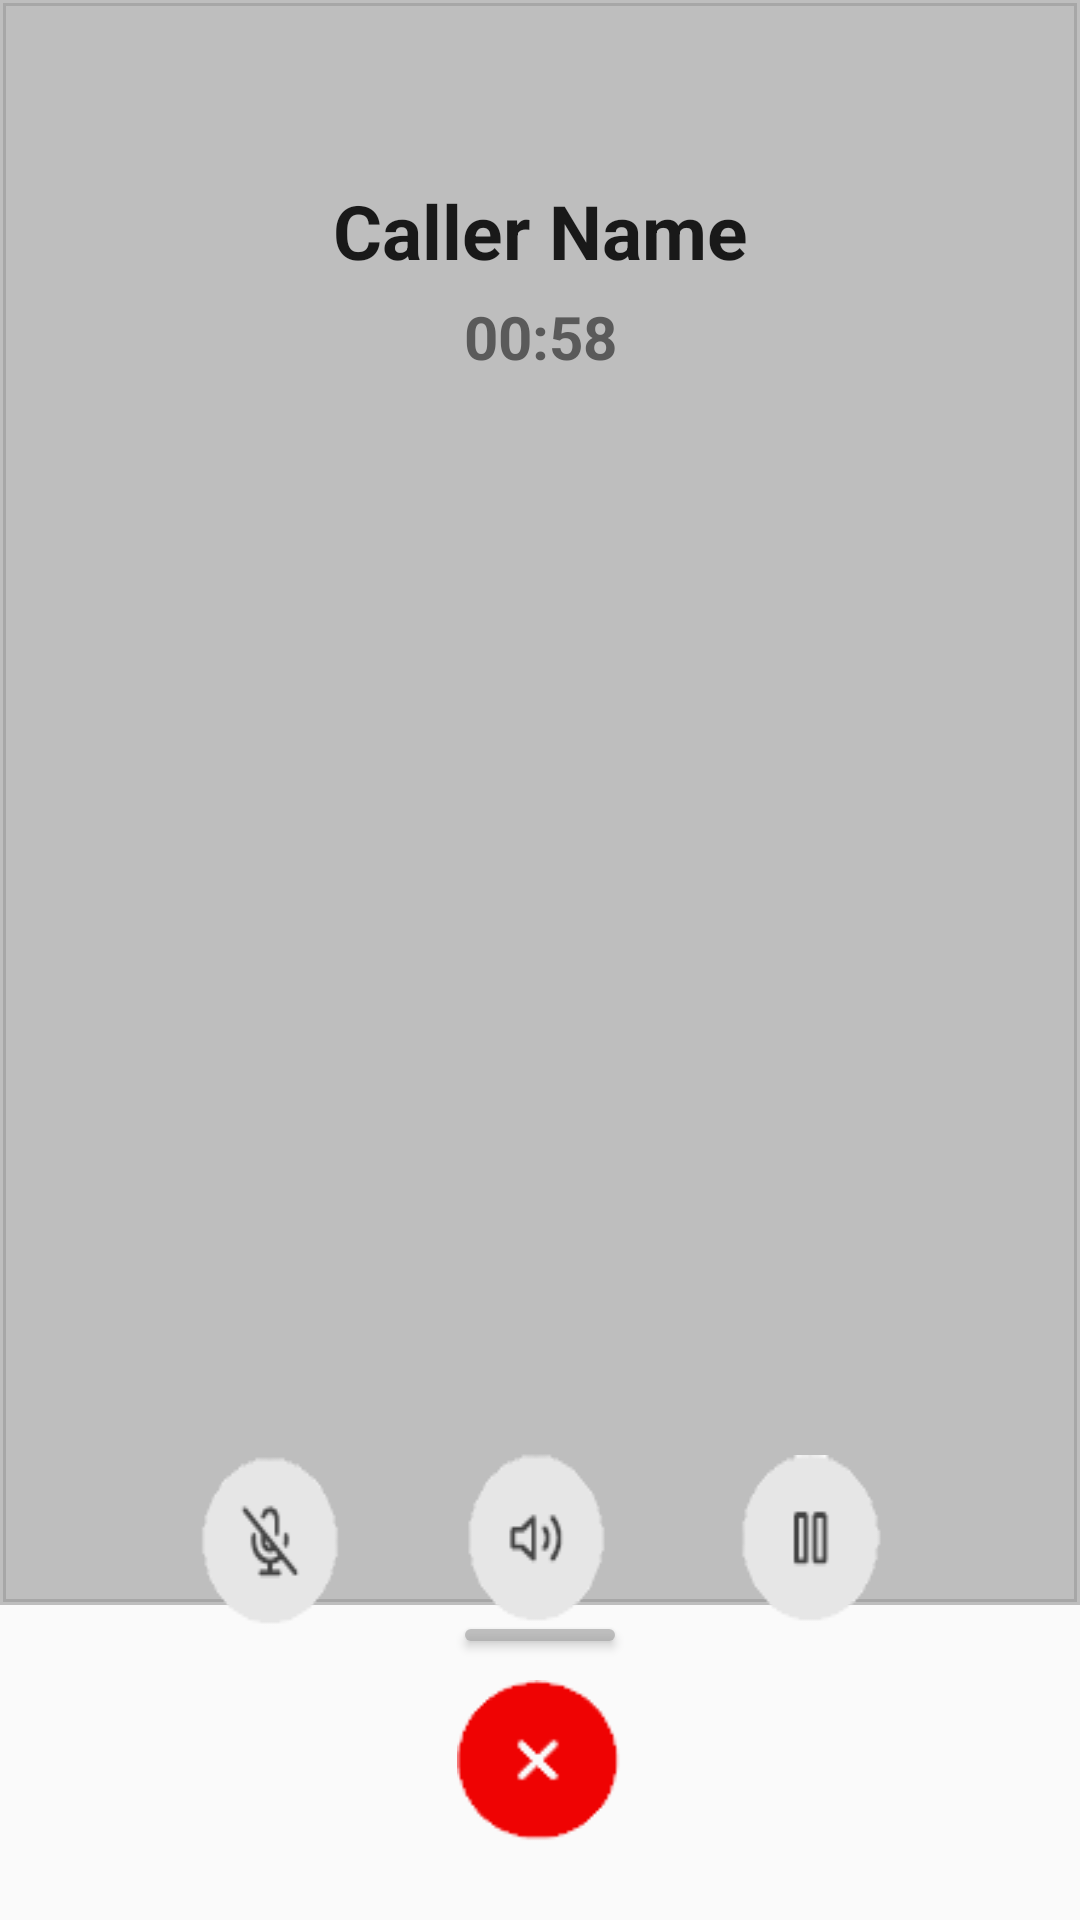

Screen size 1080w x 1920h. Icon name, then its center in pixels as point (x, y):
end call: point (538, 1760)
mute: point (270, 1547)
pause: point (810, 1543)
speaker: point (534, 1545)
